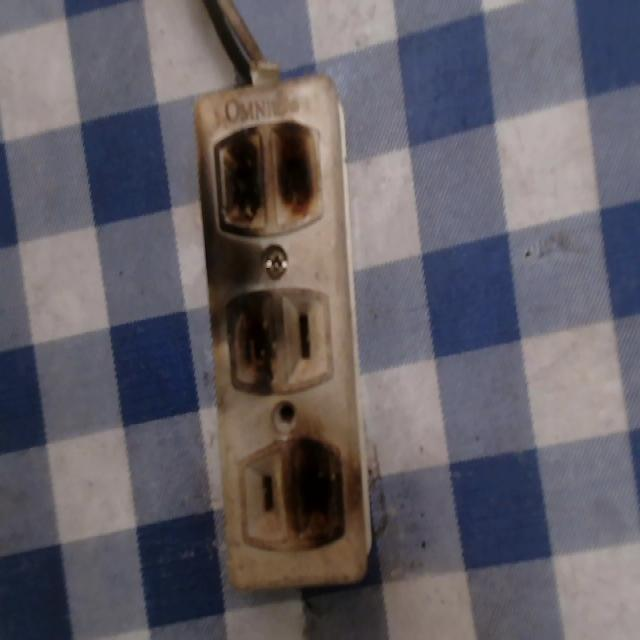-: (202, 120, 326, 240), (285, 433, 351, 552), (225, 282, 288, 394)
